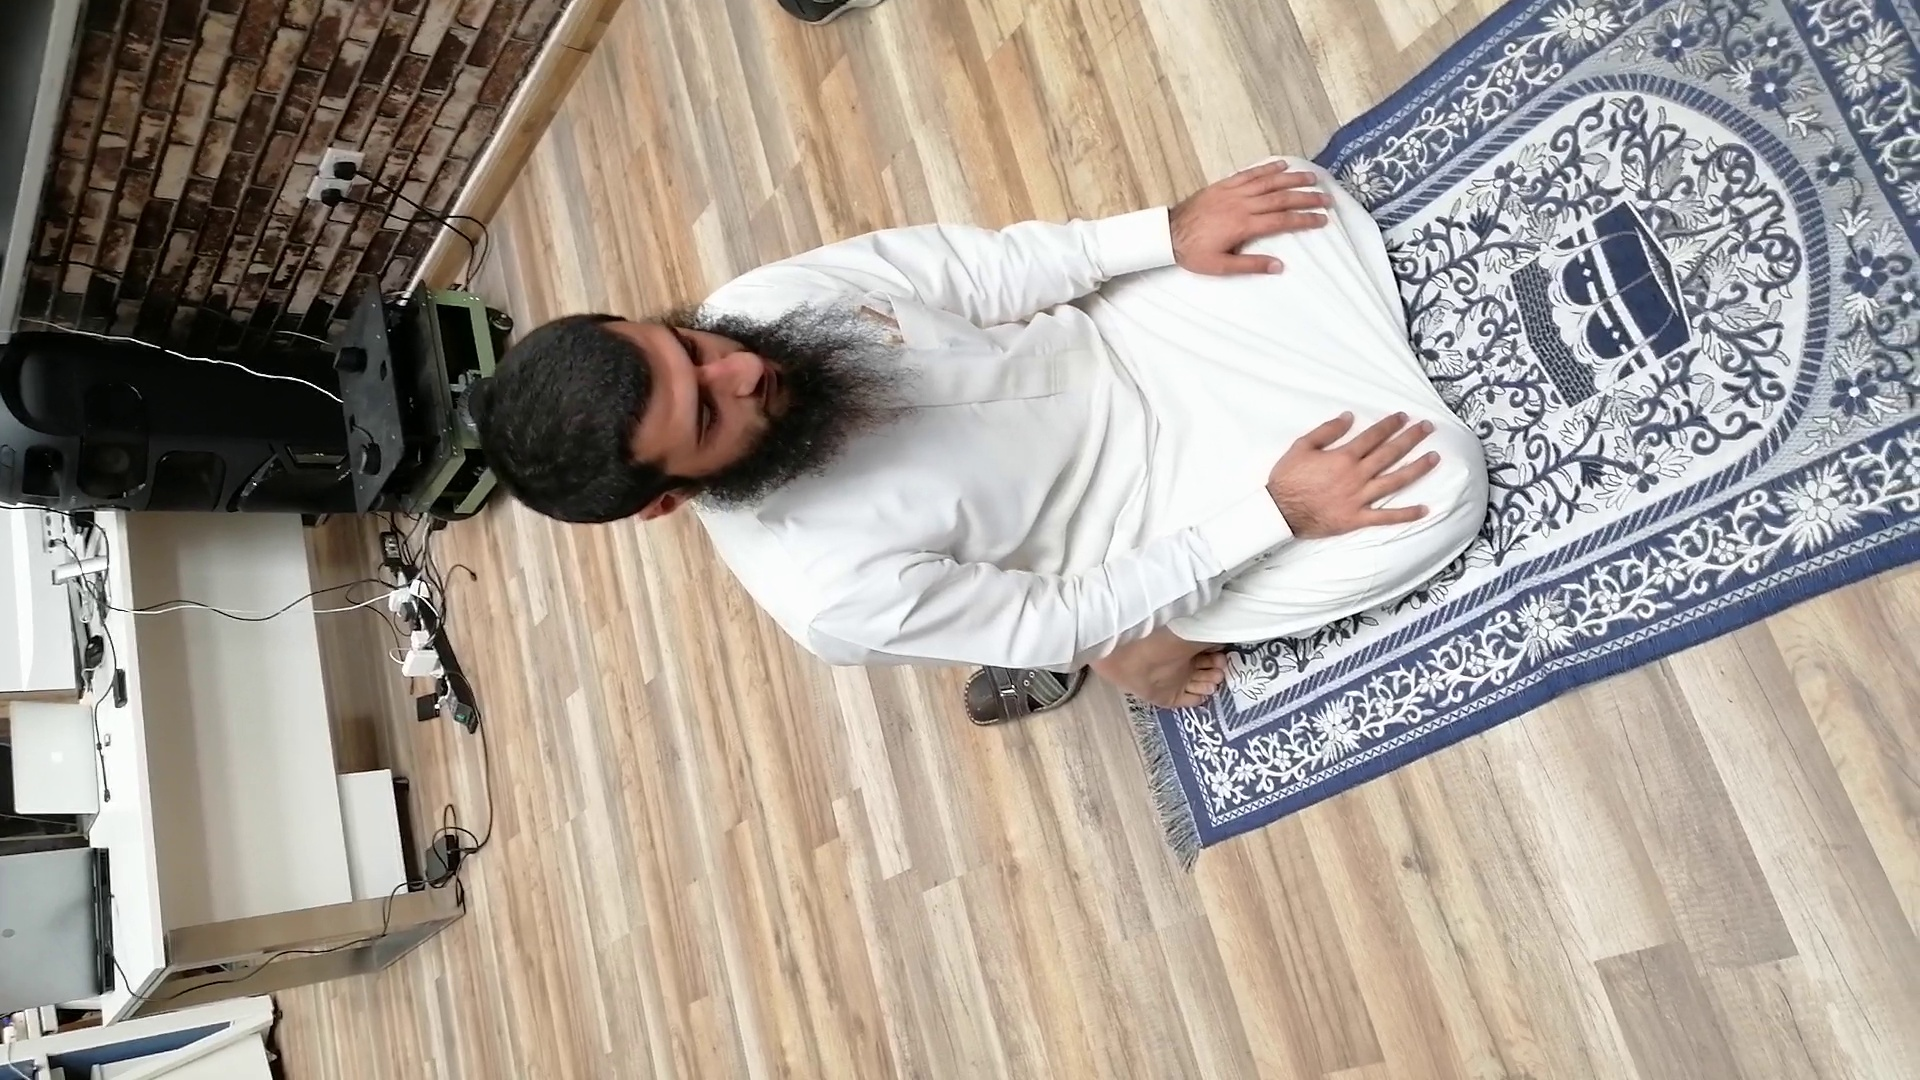sitting: (468, 135, 1494, 715)
